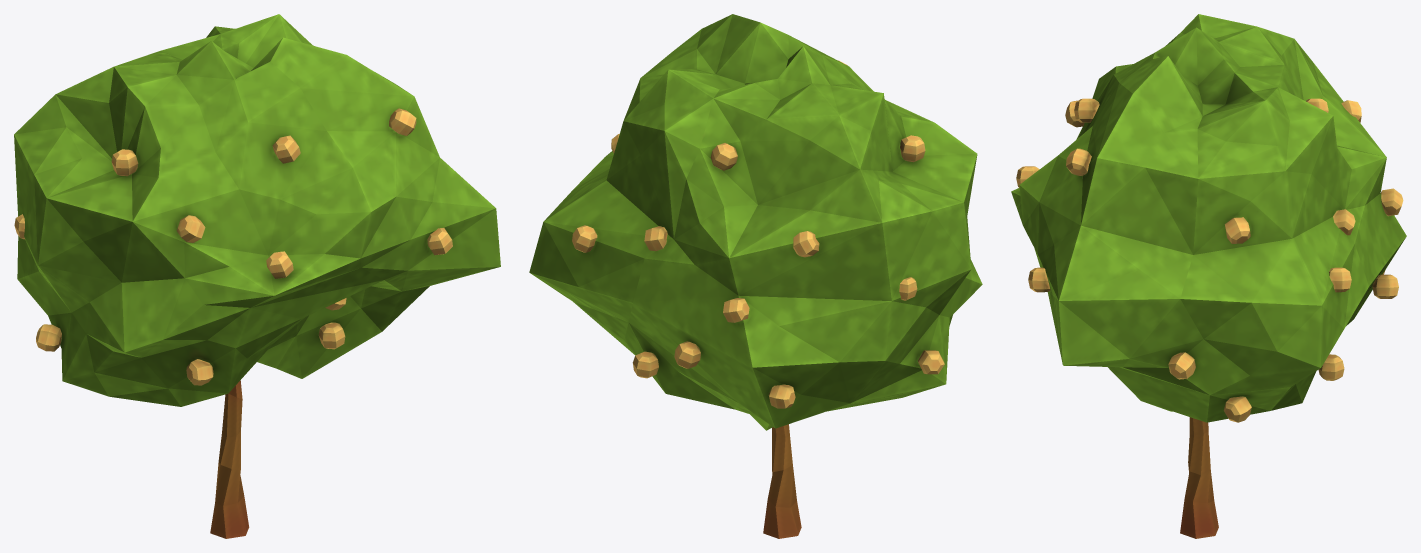
Rendered from orange-plant.glb.
3 views of the same model, side by side, from view 1: azimuth 30°, elevation 25°; view 2: azimuth 150°, elevation 25°; view 3: azimuth 270°, elevation 25° (orthographic).
Parts seen in each view (by area): view 1: OrangeTree; view 2: OrangeTree; view 3: OrangeTree.
Part boxes in pixels (bbox=[...]): OrangeTree: bbox=[14, 14, 500, 538]; OrangeTree: bbox=[529, 14, 982, 538]; OrangeTree: bbox=[1011, 14, 1406, 538].
Bounding box in the file's own units: 0.8334 × 1 × 0.7273.
Materials: 1 (1 with a texture image).
